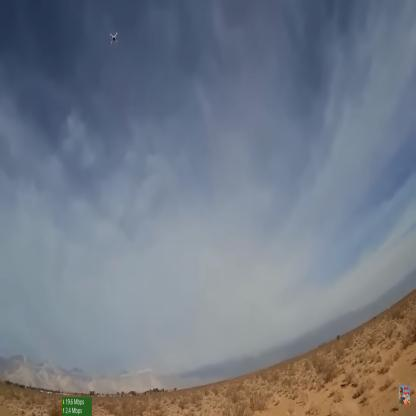drone: (107, 28, 123, 49)
